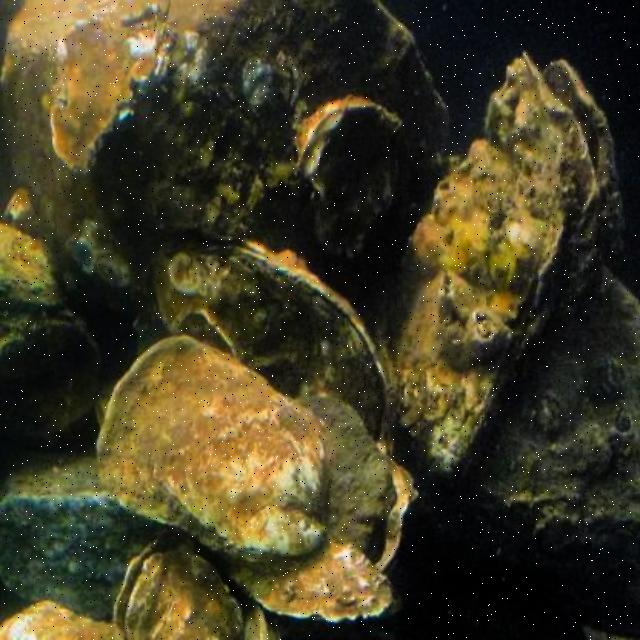Oyster-Closed: (90, 0, 451, 316), (384, 52, 593, 483), (394, 270, 640, 626), (96, 335, 328, 559), (157, 237, 388, 445), (49, 16, 178, 172), (292, 96, 399, 257), (544, 60, 622, 263), (297, 400, 395, 557), (231, 535, 390, 621), (0, 223, 67, 308), (0, 604, 120, 640), (243, 608, 279, 640)
Oyster-Open: (114, 527, 245, 640)
